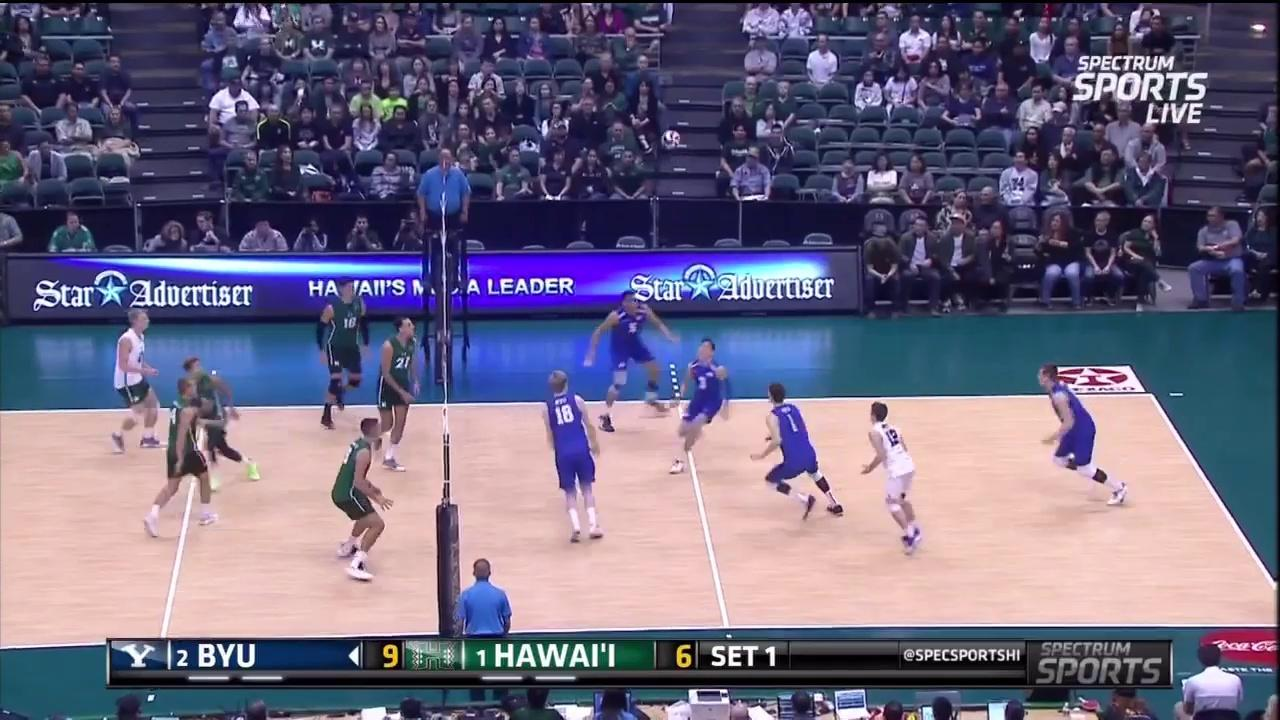player: (1038, 359, 1129, 511), (151, 376, 225, 542), (592, 292, 672, 439), (176, 351, 262, 486), (755, 386, 841, 520), (539, 374, 606, 539), (333, 418, 398, 578), (857, 405, 922, 554), (113, 310, 165, 453), (674, 343, 728, 475), (315, 286, 362, 430), (375, 320, 419, 471)
refree: (451, 553, 515, 701), (412, 148, 479, 281)
